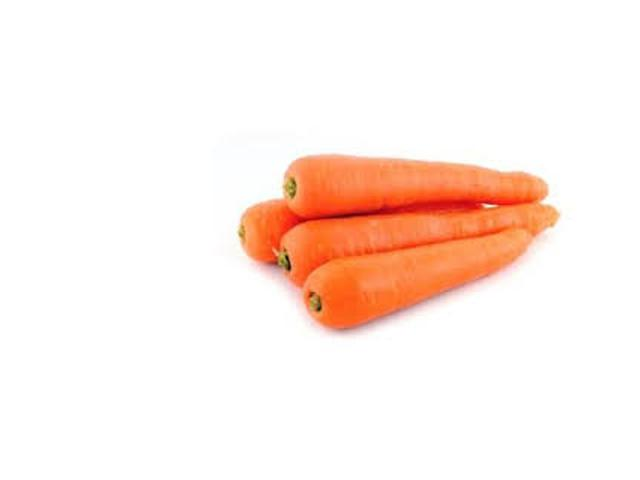carrot: (293, 253, 540, 326)
